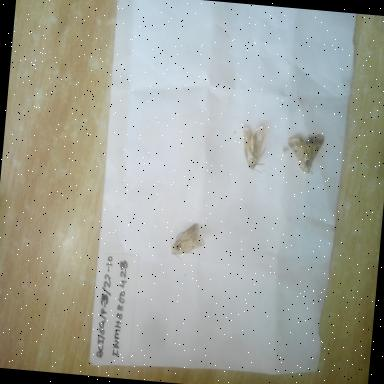abw: (227, 118, 278, 182), (279, 127, 329, 183), (164, 217, 214, 268)
